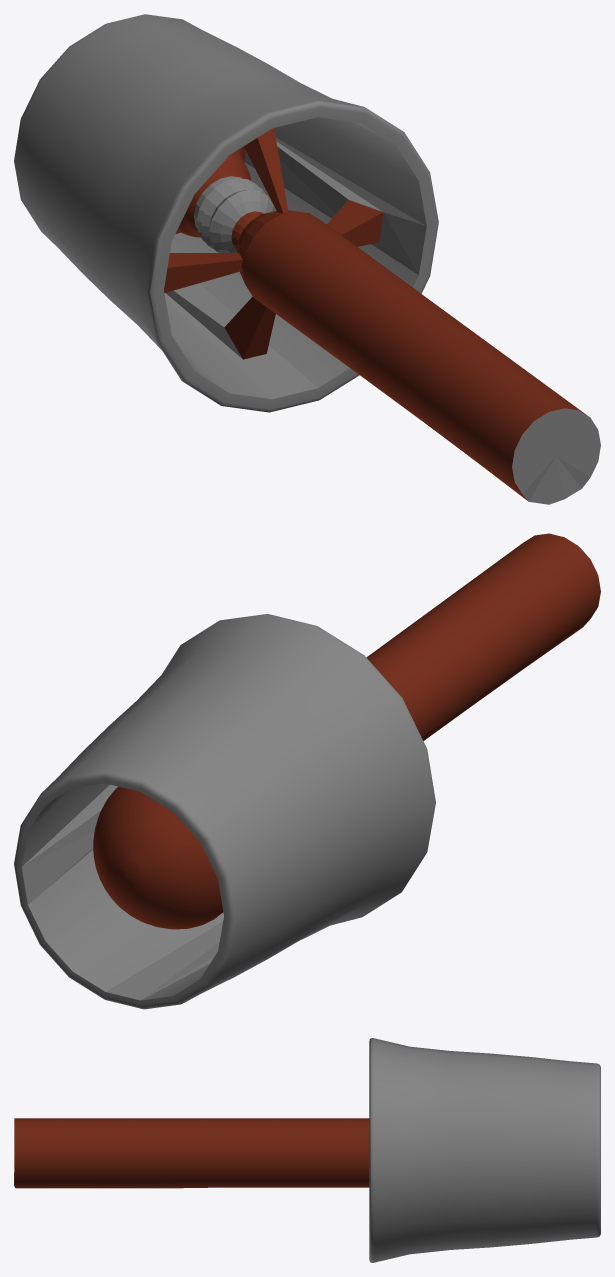
The model's file is LampClub.fbx.
3 renders of one model, top to bottom at view 1: azimuth 30°, elevation 25°; view 2: azimuth 150°, elevation 25°; view 3: azimuth 270°, elevation 25°, orthographic. The views are drawn at different scales.
Parts seen in each view (by area): view 1: Box028; view 2: Box028; view 3: Box028.
Boxes of the visible parts, x1=… form: Box028: x1=14, y1=14, x2=600, y2=504; Box028: x1=14, y1=533, x2=600, y2=1009; Box028: x1=14, y1=1038, x2=600, y2=1262.
Size of the model in its own units: 15.83 by 15.59 by 41.15.
